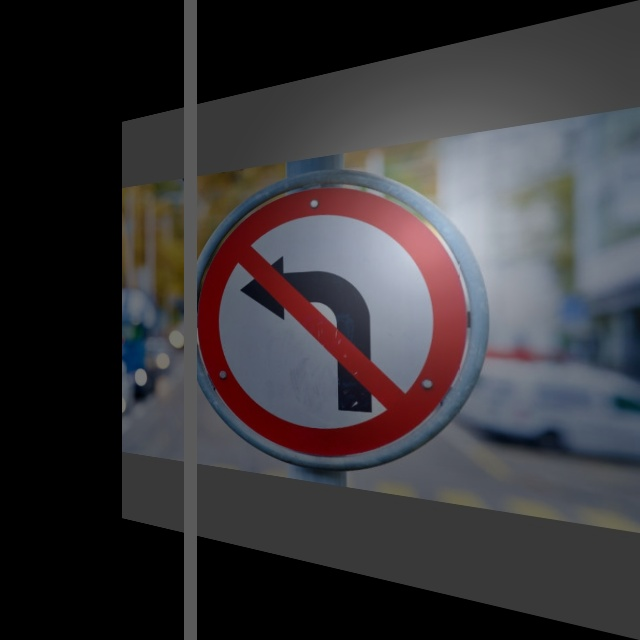Left_Turn_Prohibited: (185, 147, 488, 487)
